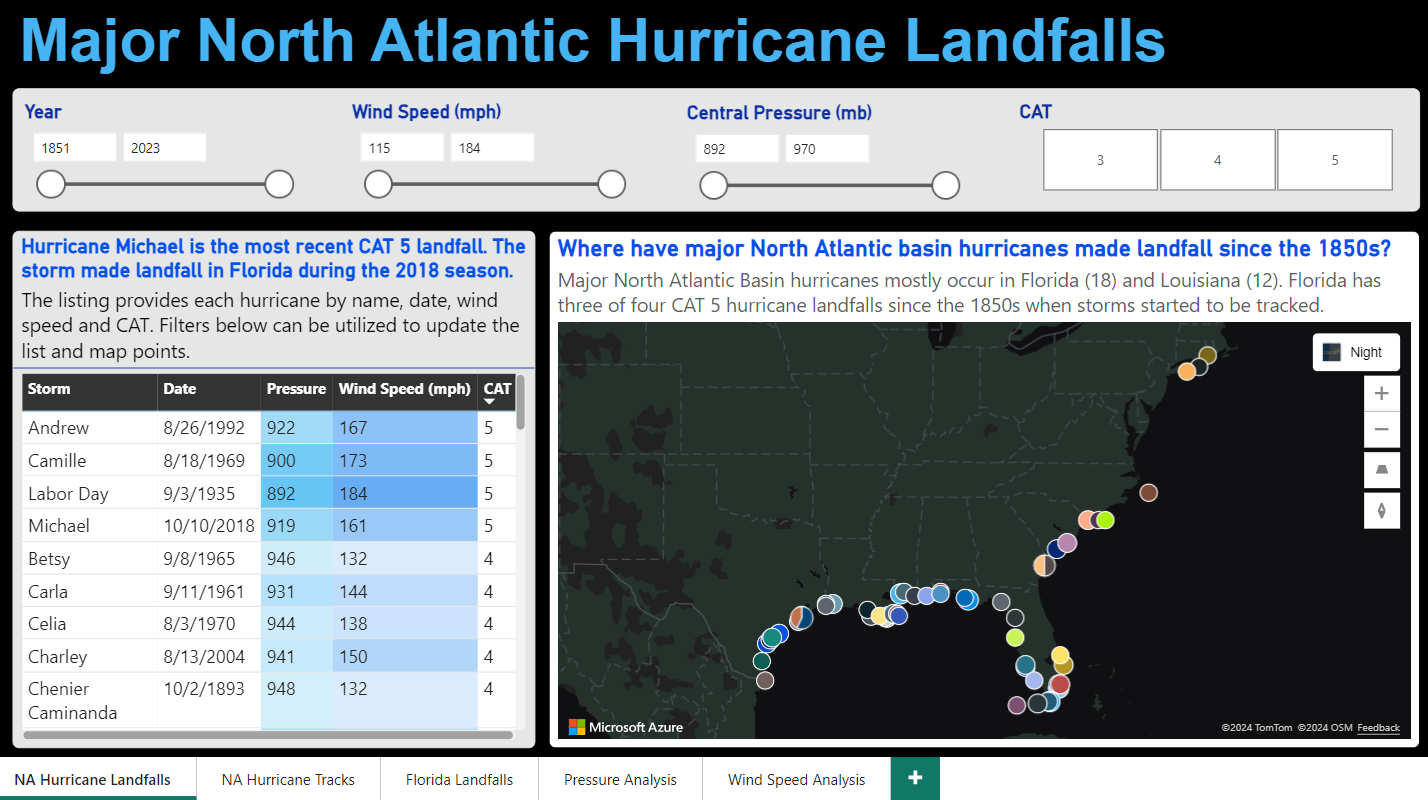

The dashboard page shown, as its layout file describes it:
{"tool":"powerbi","page":{"name":"North Atlantic Hurricanes","canvas":[1280,720],"ordinal":0},"visuals":[{"type":"textbox","box":[16.3,449.5,464.6,263.7],"z":0},{"type":"azureMap","title":"Where have major North Atlantic basin hurricanes made landfall since the 1850s?","fields":{"Y":["hurricane data.Latitude"],"X":["hurricane data.Longitude"],"Size":["_measures.CAT"],"Series":["_storms.StormName"]},"box":[491.3,131.3,775.9,581.9],"z":1000},{"type":"slicer","fields":{"Values":["hurricane data.Date.Variation.Date Hierarchy.Year"]},"box":[25.6,458.8,444.9,88.3],"z":2000},{"type":"tableEx","title":"Hurricane Michael is the most recent CAT 5 landfall. The storm made landfall in Florida during the 2018 season.","fields":{"Values":["_storms.StormName","hurricane data.Date","_measures.Pressure","_measures.Wind Speed (mph)","_measures.CAT"]},"box":[16.3,131.3,464.6,314.8],"z":3000},{"type":"slicer","fields":{"Values":["hurricane data.SSHWS"]},"box":[25.6,642.3,444.9,65],"z":4000},{"type":"textbox","box":[16.3,47.6,1251,70.9],"z":5000},{"type":"slicer","fields":{"Values":["hurricane data.Max Winds(mph)"]},"box":[25.6,556.4,225.3,86],"z":6000},{"type":"slicer","fields":{"Values":["hurricane data.CentralPressure(mb)"]},"box":[249.7,556.4,220.7,86],"z":7000}]}

Visuals, with their boxes in screenshot pixels (x1, y1, x2, y2), scaled from the page's 1280x720 canvas onto the 1428x800 screenshot:
textbox: [left=18, top=499, right=537, bottom=792]
"Where have major North Atlantic basin hurricanes made landfall since the 1850s?" azureMap: [left=548, top=146, right=1414, bottom=792]
slicer - hurricane data.Date.Variation.Date Hierarchy.Year: [left=29, top=510, right=525, bottom=608]
"Hurricane Michael is the most recent CAT 5 landfall. The storm made landfall in Florida during the 2018 season." tableEx: [left=18, top=146, right=537, bottom=496]
slicer - hurricane data.SSHWS: [left=29, top=714, right=525, bottom=786]
textbox: [left=18, top=53, right=1414, bottom=132]
slicer - hurricane data.Max Winds(mph): [left=29, top=618, right=280, bottom=714]
slicer - hurricane data.CentralPressure(mb): [left=279, top=618, right=525, bottom=714]
